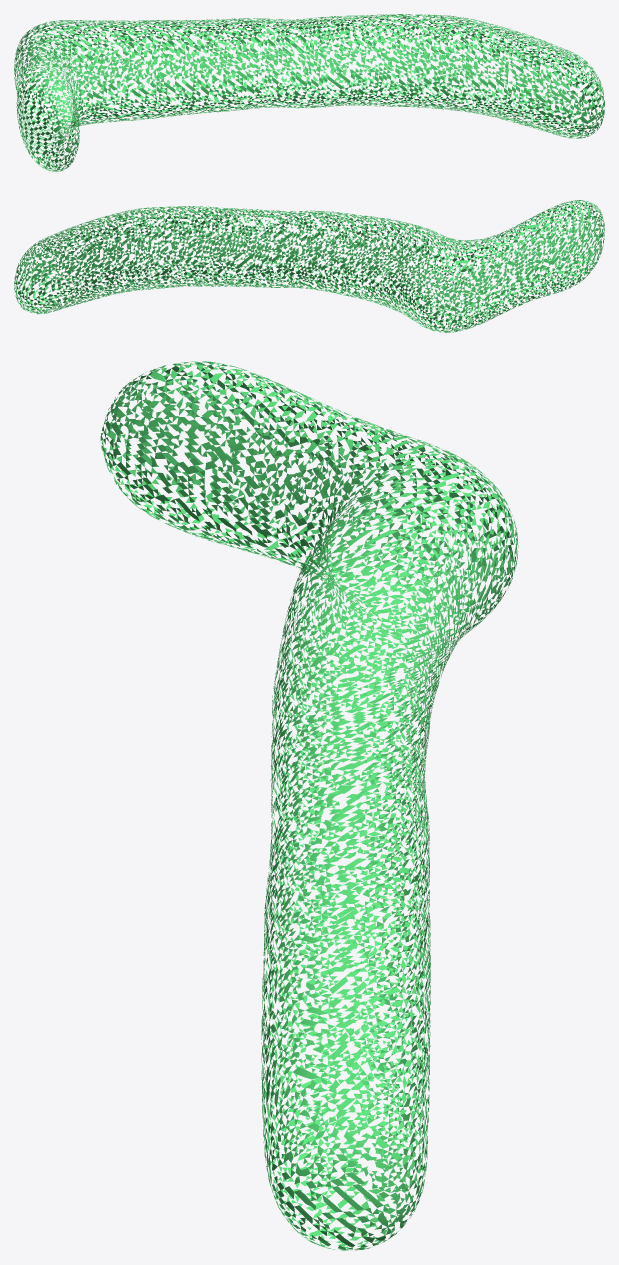
File: morph_020.glb
The picture shows the model from 3 angles, top to bottom: view 1: azimuth 30°, elevation 25°; view 2: azimuth 150°, elevation 25°; view 3: azimuth 270°, elevation 25°; orthographic projection. The views are drawn at different scales.
Size of the model in its own units: 115 by 42.05 by 39.49.
